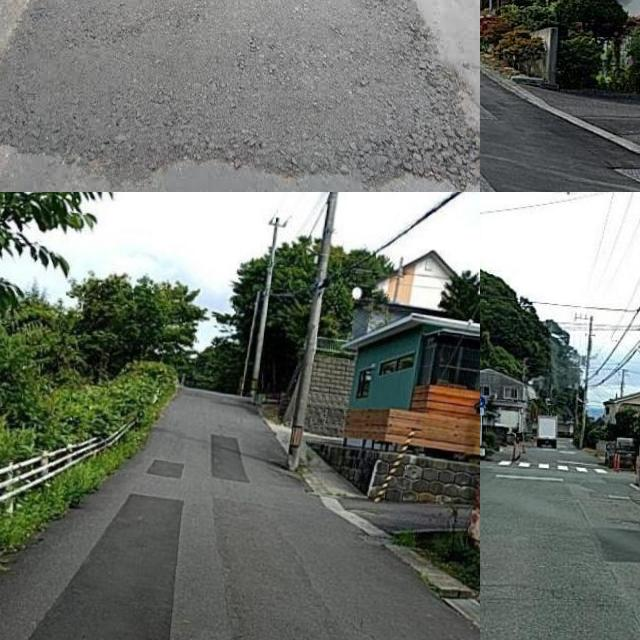Sambungan: (0, 0, 480, 183), (28, 494, 182, 640), (480, 69, 640, 192), (209, 433, 249, 480), (593, 530, 640, 563), (139, 459, 183, 480)
